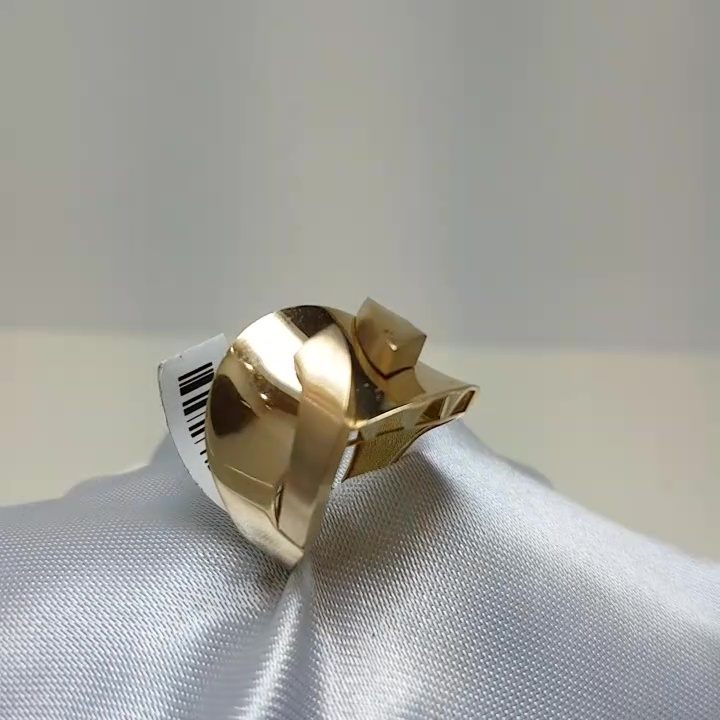Ring 4: (136, 286, 496, 580)
